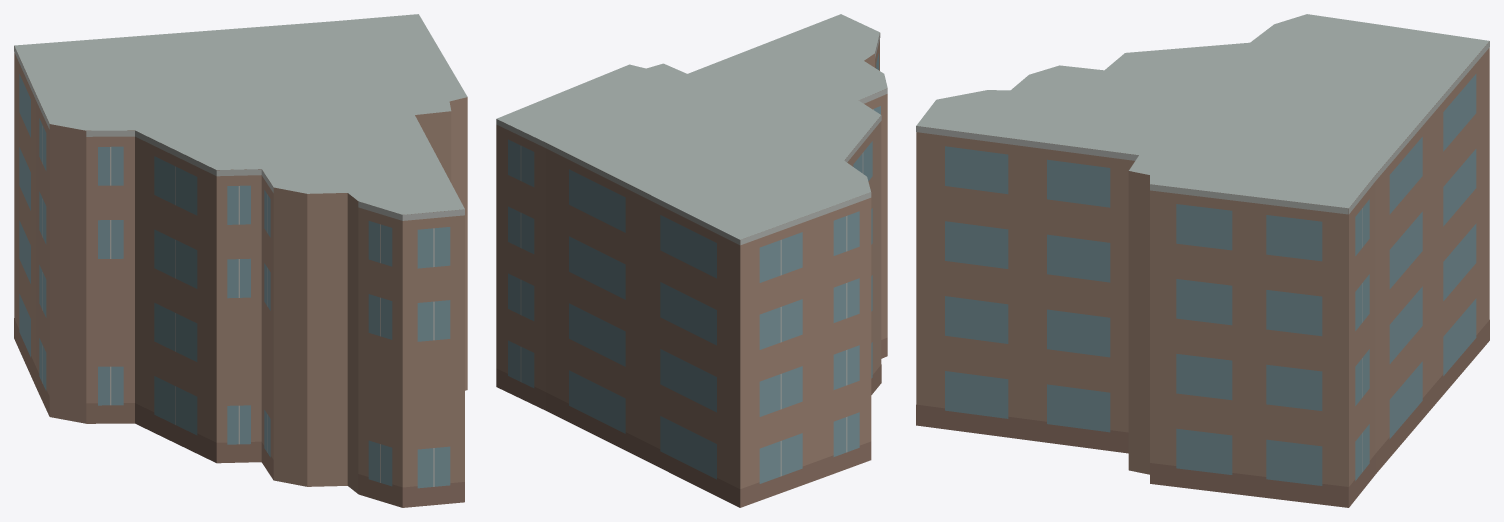
The model's file is survey-upis-32927394.glb.
The picture shows the model from 3 angles, left to right: view 1: azimuth 30°, elevation 25°; view 2: azimuth 150°, elevation 25°; view 3: azimuth 270°, elevation 25°; orthographic projection. The views are drawn at different scales.
Visible parts, largest first — view 1: survey-upis-32927394.tmp; view 2: survey-upis-32927394.tmp; view 3: survey-upis-32927394.tmp.
Part boxes in pixels (<box>): survey-upis-32927394.tmp: <box>14,14,467,507</box>; survey-upis-32927394.tmp: <box>496,14,887,507</box>; survey-upis-32927394.tmp: <box>916,14,1489,507</box>.
Size of the model in its own units: 16.28 by 11.7 by 20.31.
